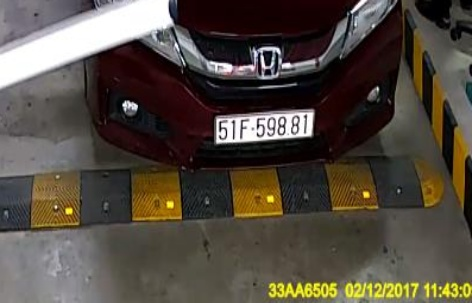plate: (213, 108, 314, 144)
